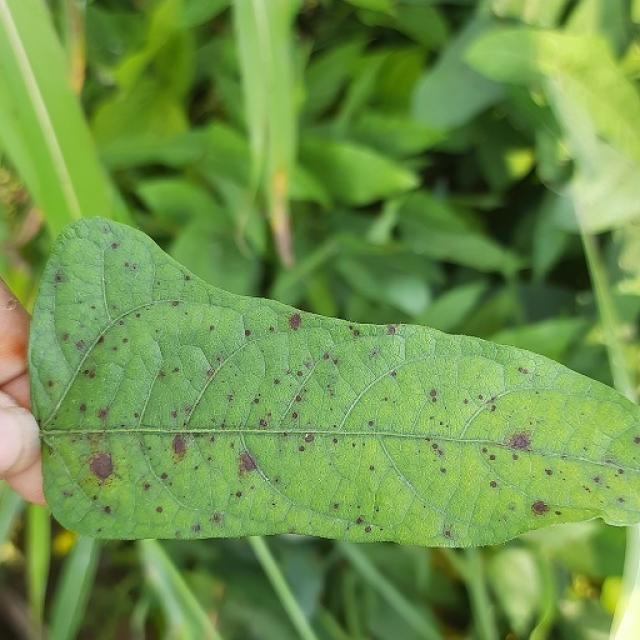Anthracnose: (79, 445, 124, 484), (229, 445, 269, 484), (506, 414, 544, 455), (171, 434, 187, 457), (287, 313, 302, 331), (123, 260, 140, 271), (97, 408, 108, 421), (75, 340, 86, 352), (54, 271, 65, 283), (386, 325, 397, 335), (303, 433, 314, 443), (212, 513, 222, 524), (258, 418, 268, 428), (78, 403, 87, 413), (518, 366, 529, 374), (96, 335, 105, 344), (61, 333, 70, 342), (192, 523, 201, 532), (103, 505, 112, 514), (110, 242, 119, 250), (170, 410, 178, 419), (160, 472, 168, 481), (143, 482, 151, 491), (206, 370, 214, 378), (244, 329, 252, 337), (155, 506, 163, 514), (171, 300, 180, 307), (227, 394, 234, 403), (291, 412, 298, 420), (235, 491, 243, 498), (353, 329, 360, 337), (390, 370, 397, 378), (295, 395, 302, 403), (47, 380, 54, 388), (298, 445, 305, 452), (253, 397, 260, 404), (323, 353, 330, 360), (296, 371, 303, 378), (184, 275, 191, 281), (173, 367, 179, 373)
Blackgram: (30, 218, 639, 546)
